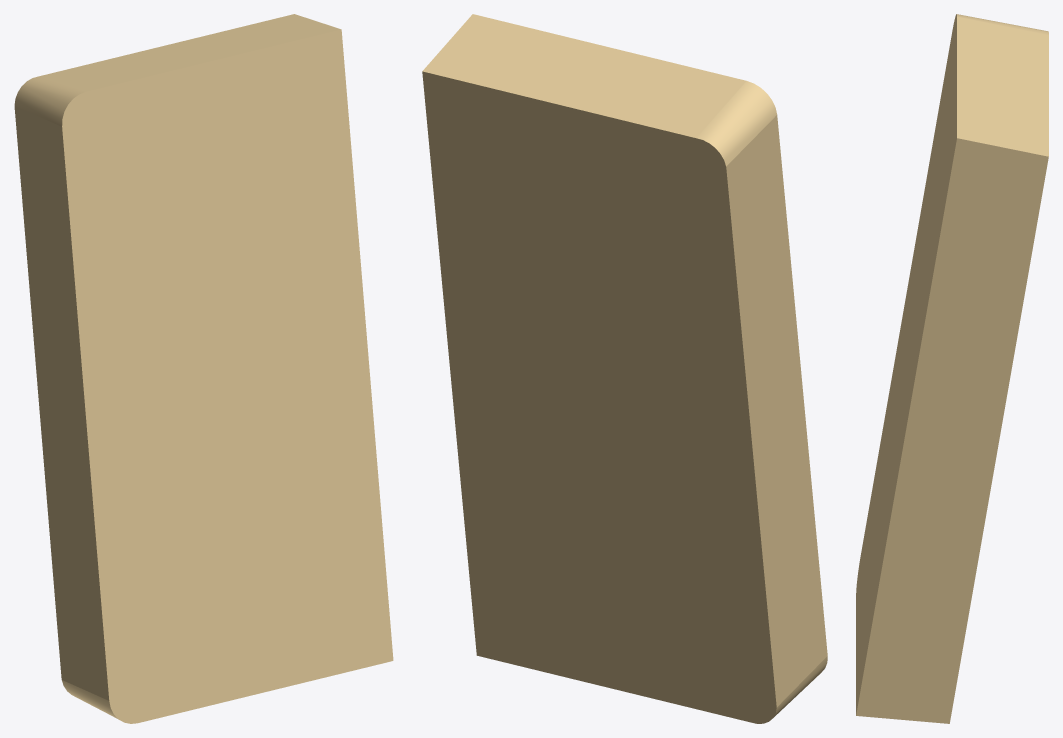
The model's file is original-3.obj.
3 views of the same model, side by side, from view 1: azimuth 30°, elevation 25°; view 2: azimuth 150°, elevation 25°; view 3: azimuth 270°, elevation 25° (orthographic). The views are drawn at different scales.
Visible parts, largest first — view 1: Button2/Button12/mesh9/mesh9-geometry#mesh9-geometry; view 2: Button2/Button12/mesh9/mesh9-geometry#mesh9-geometry; view 3: Button2/Button12/mesh9/mesh9-geometry#mesh9-geometry.
Boxes of the visible parts, <box> form: Button2/Button12/mesh9/mesh9-geometry#mesh9-geometry: <box>14,14,393,723</box>; Button2/Button12/mesh9/mesh9-geometry#mesh9-geometry: <box>422,14,827,723</box>; Button2/Button12/mesh9/mesh9-geometry#mesh9-geometry: <box>856,14,1048,723</box>.
Size of the model in its own units: 0.5305 by 1.08 by 0.3228.
